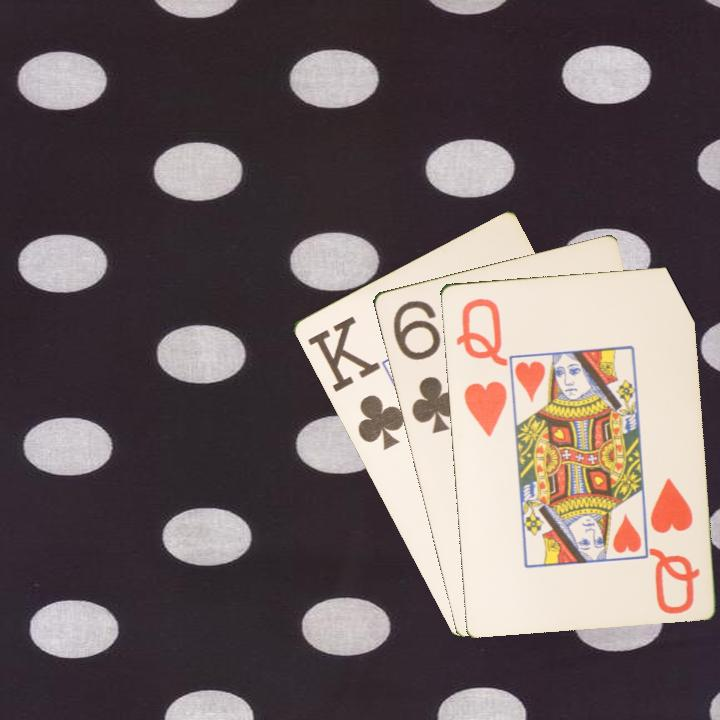6c: (389, 296, 463, 436)
Kc: (303, 312, 407, 453)
Qh: (451, 294, 510, 439), (646, 474, 702, 617)
